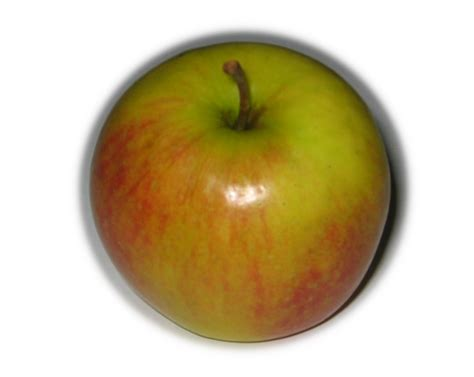apple: (84, 39, 398, 345)
